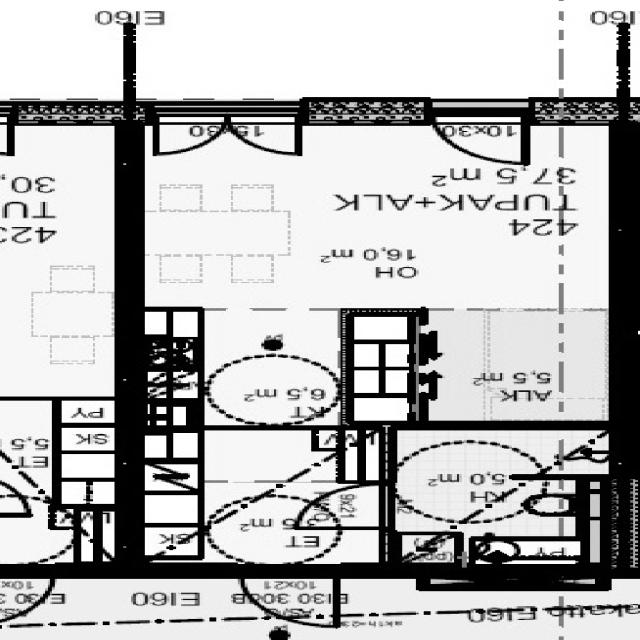door: (229, 572, 344, 630), (420, 113, 542, 167), (225, 104, 325, 164), (141, 106, 231, 160)
zone: (143, 119, 606, 312), (133, 306, 412, 421), (135, 428, 380, 557), (400, 430, 620, 569), (410, 304, 617, 423)
